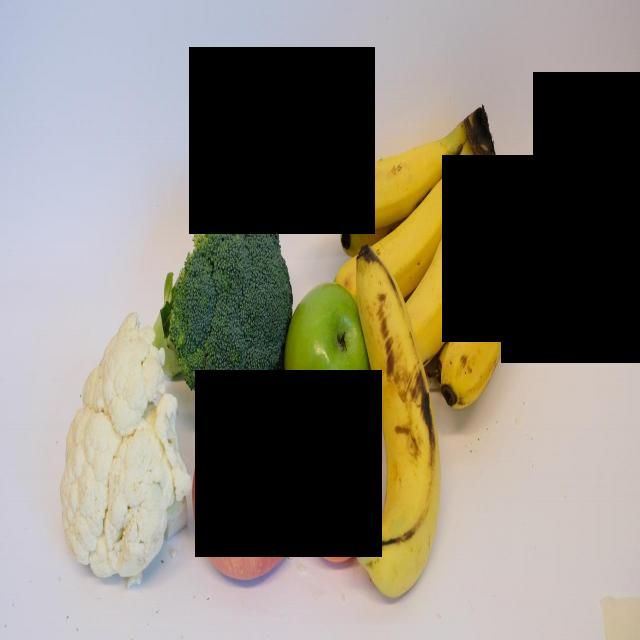apple: (192, 407, 298, 586), (283, 278, 375, 439)
banana: (353, 246, 443, 602), (439, 152, 529, 417), (308, 110, 482, 238)
broccoli: (150, 176, 294, 421)
cauliflower: (60, 305, 193, 593)
tomato: (293, 406, 380, 564)
